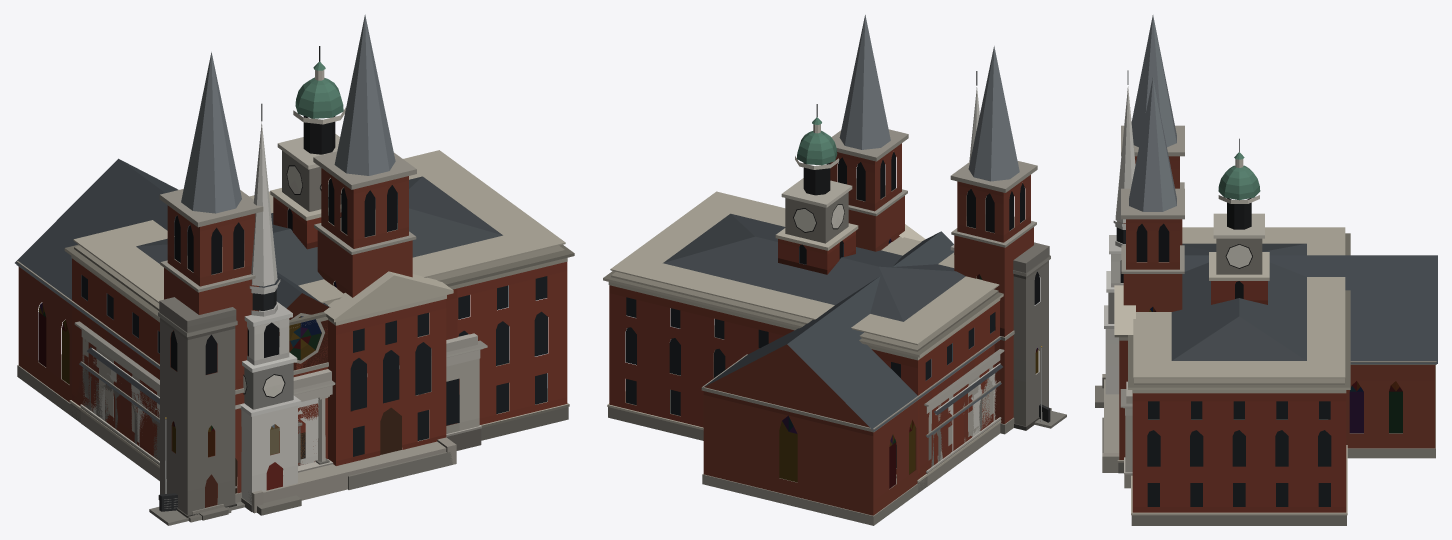
Rendered from civic_far.glb.
The picture shows the model from 3 angles, left to right: view 1: azimuth 30°, elevation 25°; view 2: azimuth 150°, elevation 25°; view 3: azimuth 270°, elevation 25°; orthographic projection. The views are drawn at different scales.
Parts seen in each view (by area): view 1: ph_2, chb_2, chs_2, chw_2, dlo_2, sq_memorial; view 2: chb_2, ph_2, chs_2, dlo_2, chw_2; view 3: ph_2, chb_2, chw_2, dlo_2.
Part boxes in pixels (box(x1,y1,x2,y2)): ph_2: box(64, 46, 574, 489); chb_2: box(15, 14, 416, 502); chs_2: box(79, 297, 302, 520); chw_2: box(87, 103, 318, 515); dlo_2: box(74, 313, 487, 513); sq_memorial: box(149, 417, 244, 525); chb_2: box(701, 15, 1037, 525); ph_2: box(603, 104, 1003, 492); chs_2: box(926, 242, 1050, 466); dlo_2: box(713, 325, 1004, 486); chw_2: box(934, 71, 1002, 452); ph_2: box(1102, 138, 1350, 525); chb_2: box(1121, 15, 1437, 458); chw_2: box(1095, 70, 1135, 407); dlo_2: box(1102, 374, 1327, 488).
Size of the model in its own units: 44.9 by 46 by 38.5.
